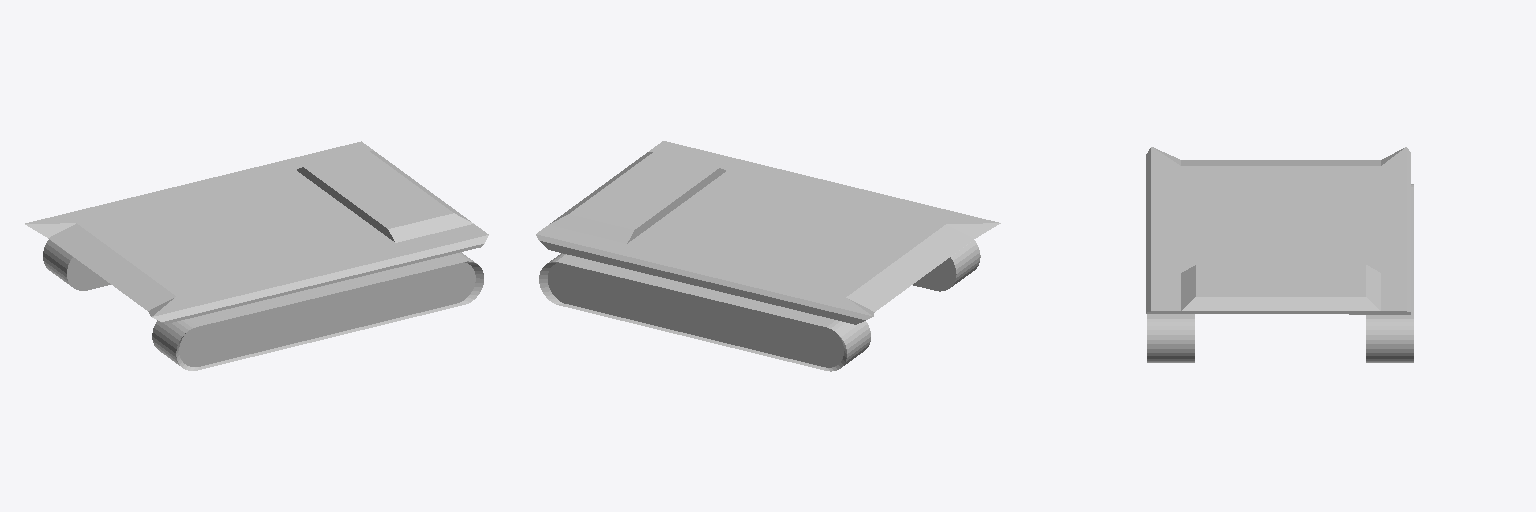
The model's file is tankbase.obj.
3 views of the same model, side by side, from view 1: azimuth 30°, elevation 25°; view 2: azimuth 150°, elevation 25°; view 3: azimuth 270°, elevation 25° (orthographic).
Visible parts, largest first — view 1: Cube_Cube.000, Cylinder; view 2: Cube_Cube.000, Cylinder; view 3: Cube_Cube.000, Cylinder.
Part boxes in pixels (left/top/right/bottom): Cube_Cube.000: left=25, top=141, right=488, bottom=323; Cylinder: left=43, top=239, right=483, bottom=370; Cube_Cube.000: left=536, top=141, right=1000, bottom=324; Cylinder: left=539, top=240, right=980, bottom=371; Cube_Cube.000: left=1146, top=147, right=1410, bottom=314; Cylinder: left=1147, top=184, right=1413, bottom=362.
Size of the model in its own units: 16.2 by 3.24 by 11.13.